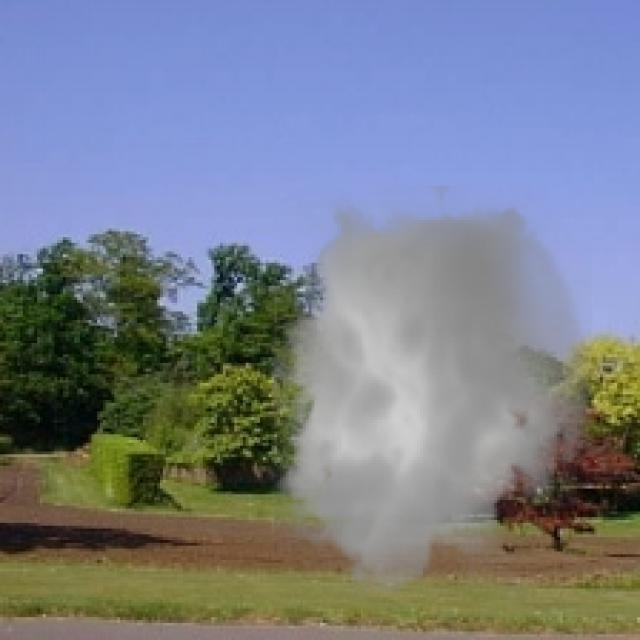Smoke: (257, 186, 603, 608)
